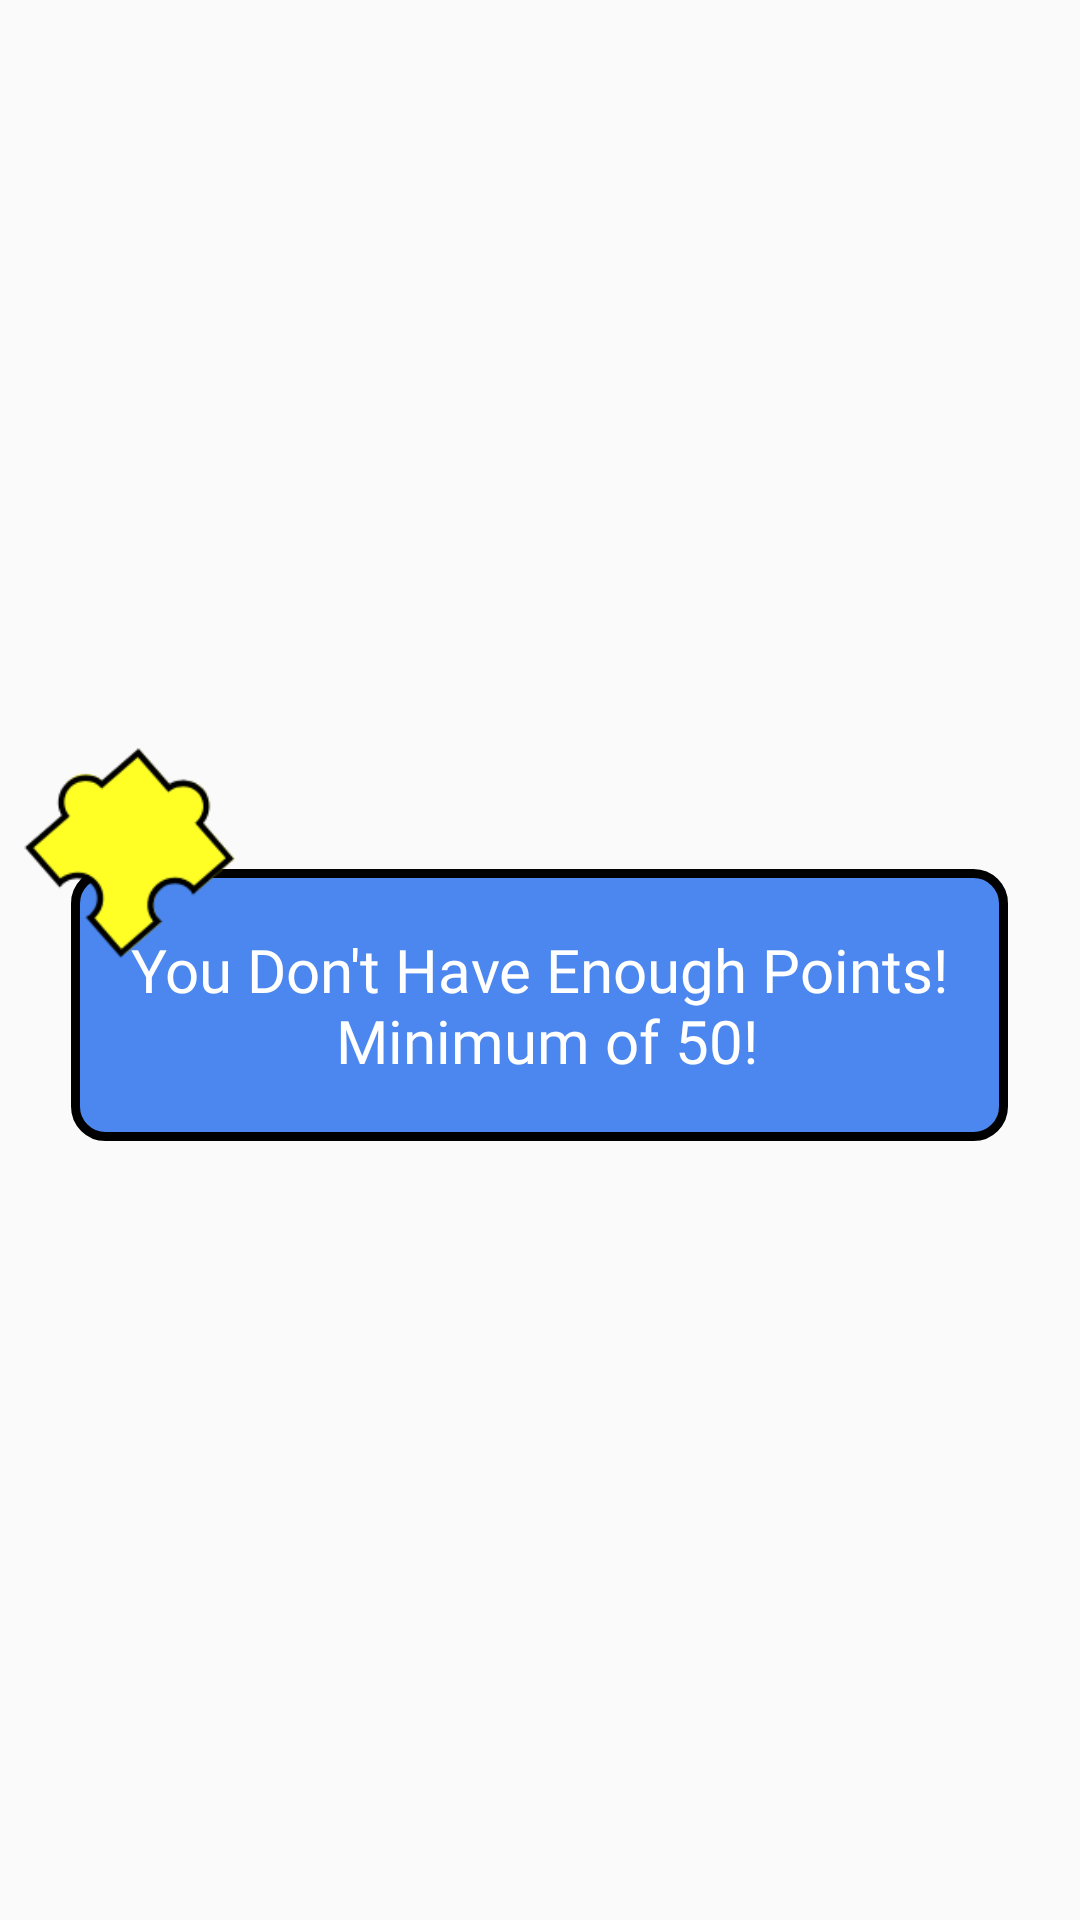

Named icons in this screenshot (1080w x 1920h) and their centers, [x,y]:
puzzle piece: [137,853]
